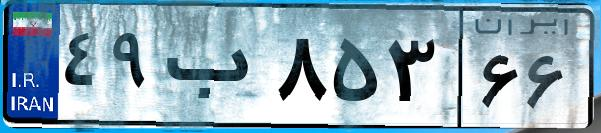3: (385, 28, 445, 110)
4: (57, 26, 110, 100)
5: (330, 28, 385, 110)
6: (475, 38, 525, 113), (525, 38, 570, 115)
8: (270, 28, 330, 110)
9: (110, 28, 158, 98)
ب: (158, 20, 270, 120)
